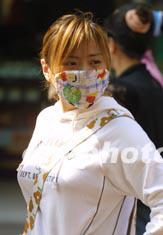OK: (54, 51, 110, 107)
